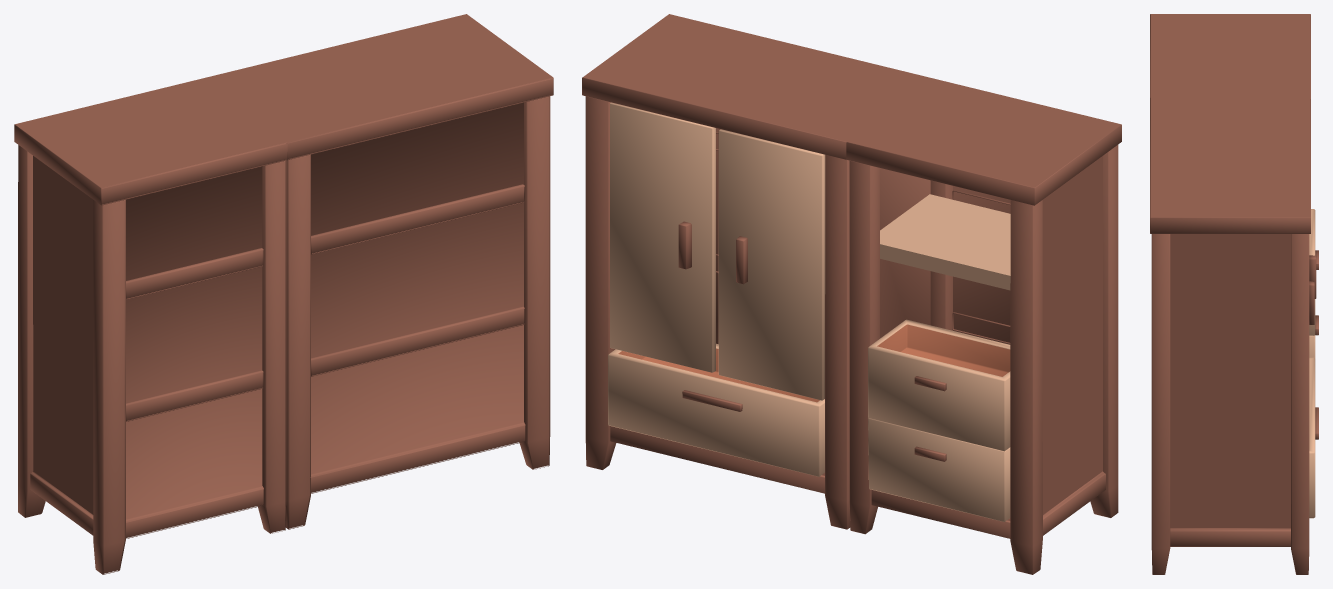
File: Wardrobe.fbx
The picture shows the model from 3 angles, left to right: view 1: azimuth 30°, elevation 25°; view 2: azimuth 150°, elevation 25°; view 3: azimuth 270°, elevation 25°; orthographic projection. The views are drawn at different scales.
Visible parts, largest first — view 1: Wardrobe; view 2: Wardrobe; view 3: Wardrobe.
Boxes of the visible parts, x1,y1,x2,y2 form: Wardrobe: [14, 14, 553, 574]; Wardrobe: [582, 14, 1121, 574]; Wardrobe: [1150, 14, 1318, 574].
Bounding box in the file's own units: 517 × 425 × 181.
